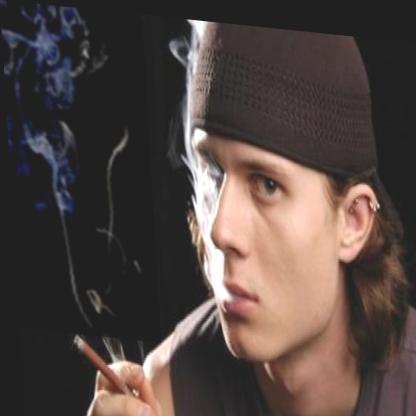smoke: (0, 0, 157, 340)
